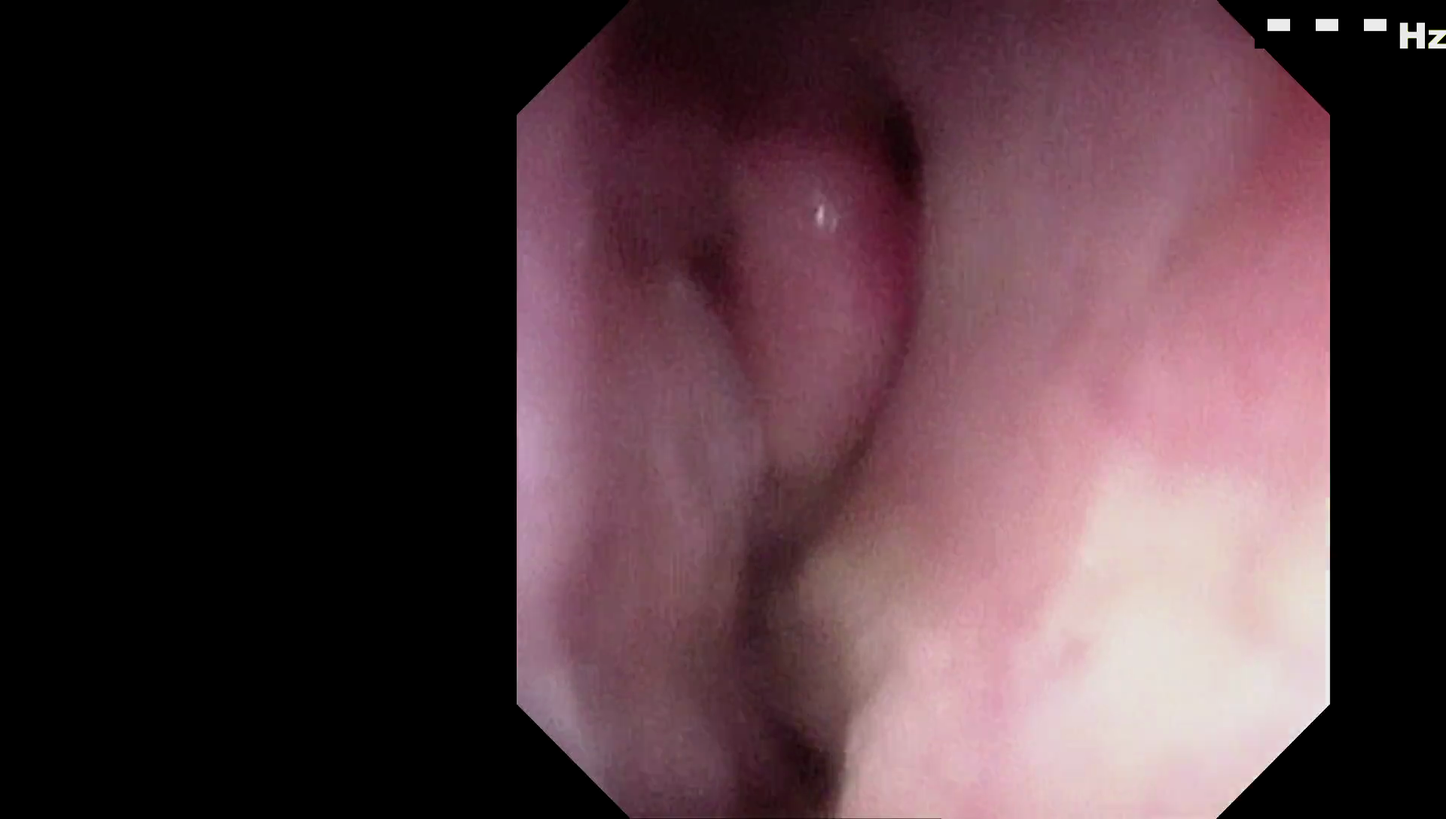close_wall: (916, 373, 1272, 762)
next: (685, 595, 862, 819), (603, 7, 818, 145), (845, 72, 959, 224)
